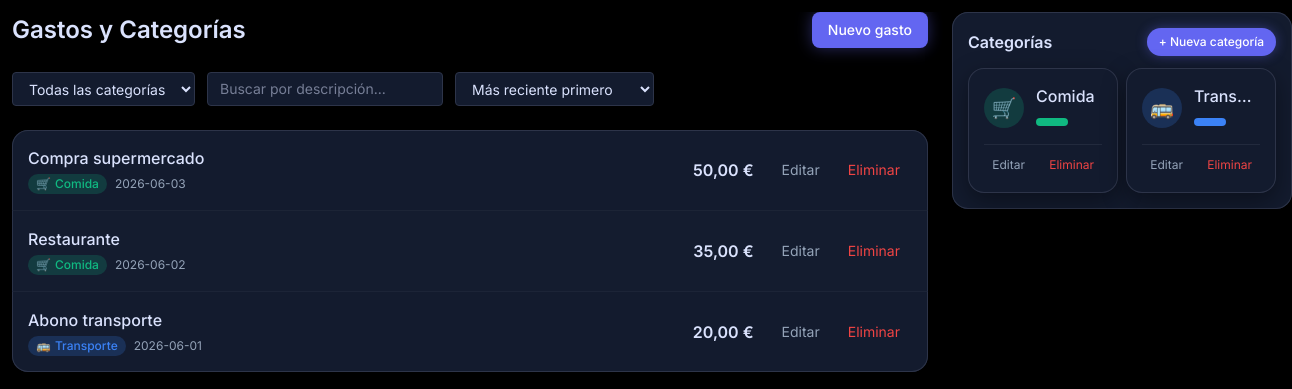
Test: ExpensesPage — filter, search and sort › text search filters by description case-insensitively
Type "super" into the field labelled "Buscar por descripción..." at (325, 89), box top-left (207, 72), bottom-right (443, 106)
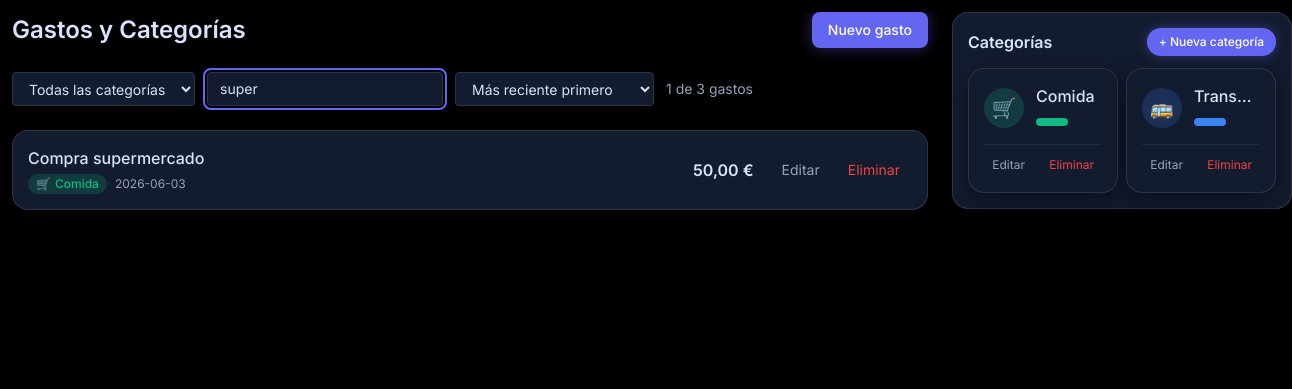
Expected: the text "Compra supermercado" is shown, top-left (28, 146), bottom-right (204, 170)
Expected: the text "Abono transporte" is gone
Expected: the text "Restaurante" is gone
